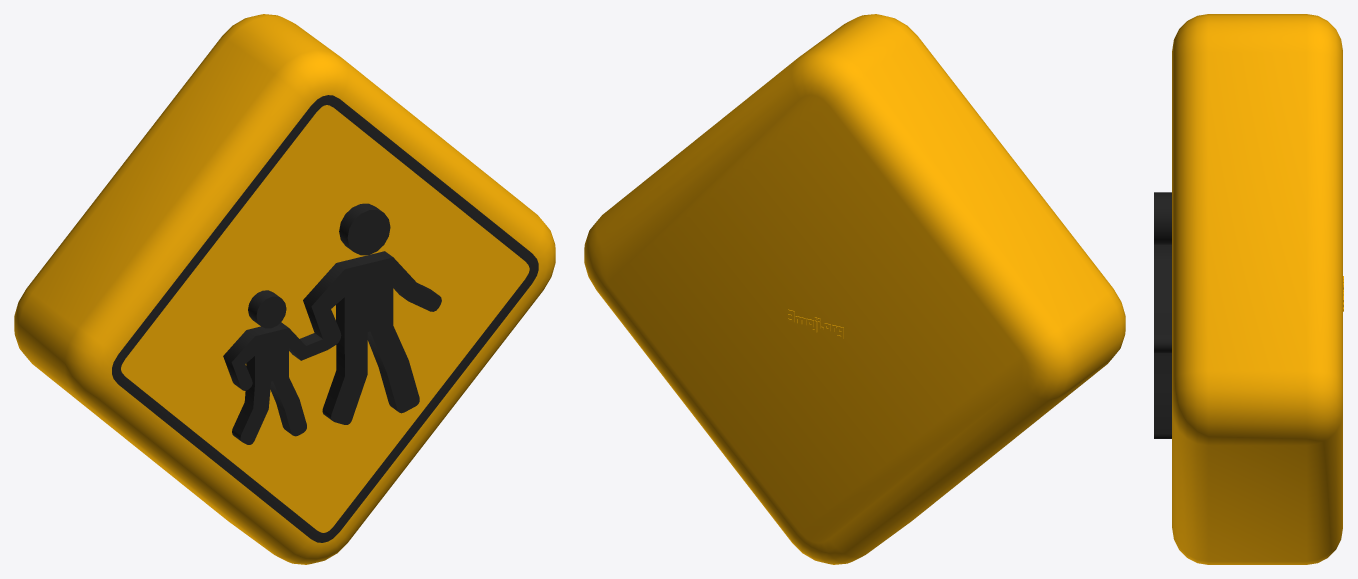
File: children_crossing.fbx
3 renders of one model, left to right at view 1: azimuth 30°, elevation 25°; view 2: azimuth 150°, elevation 25°; view 3: azimuth 270°, elevation 25°, orthographic. The views are drawn at different scales.
Parts seen in each view (by area): view 1: Cube.6305; view 2: Cube.6305; view 3: Cube.6305.
Part boxes in pixels (left/top/right/bottom): Cube.6305: left=14, top=14, right=555, bottom=564; Cube.6305: left=584, top=14, right=1125, bottom=564; Cube.6305: left=1154, top=14, right=1343, bottom=564.
Bounding box in the file's own units: 230 × 230 × 73.37.
Materials: 1 (1 with a texture image).
